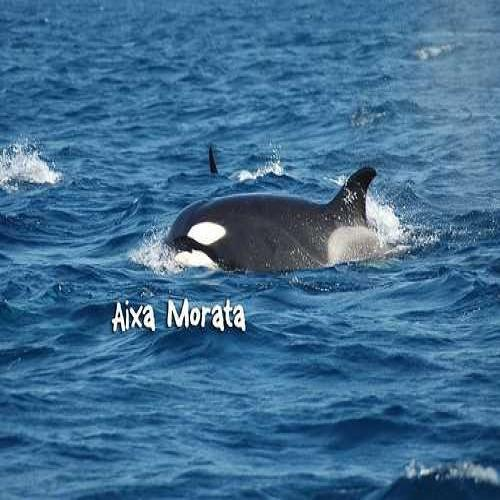killer_whale-endangered: (144, 159, 417, 308)
